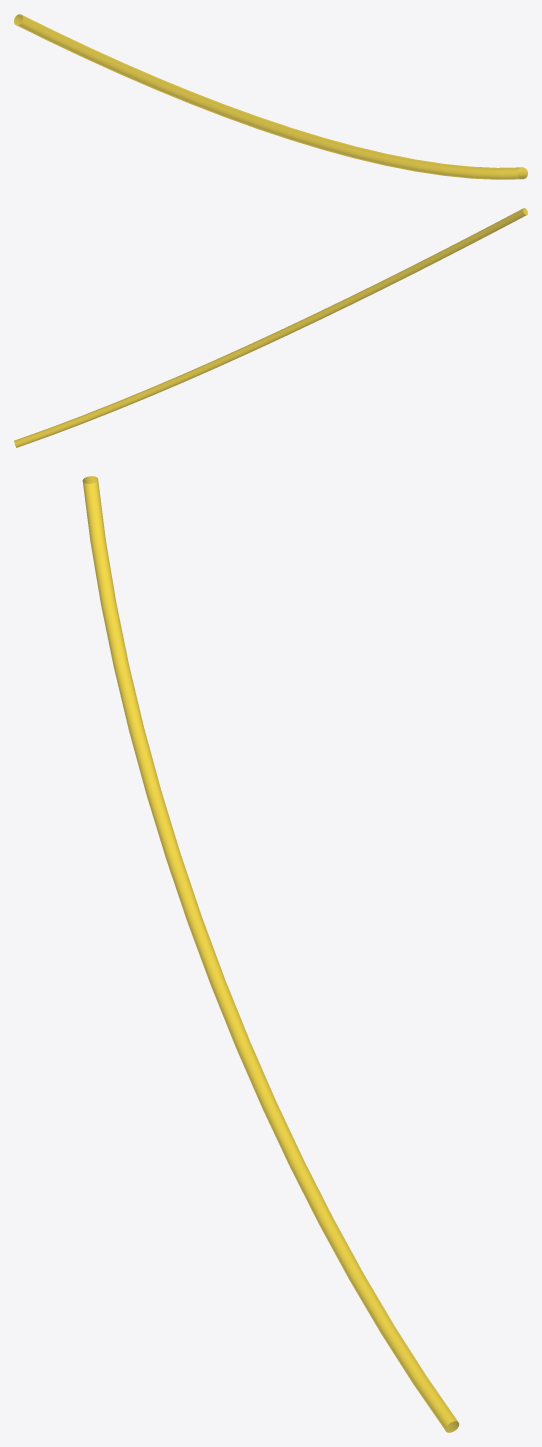
The model's file is Event_40932208_track_16.fbx.
The picture shows the model from 3 angles, top to bottom: view 1: azimuth 30°, elevation 25°; view 2: azimuth 150°, elevation 25°; view 3: azimuth 270°, elevation 25°; orthographic projection. The views are drawn at different scales.
Visible parts, largest first — view 1: Model; view 2: Model; view 3: Model.
Part boxes in pixels (bbox=[...]): Model: bbox=[14, 14, 527, 179]; Model: bbox=[14, 208, 527, 447]; Model: bbox=[82, 476, 459, 1432].
Bounding box in the file's own units: 2.5 × 1.55 × 0.964.
